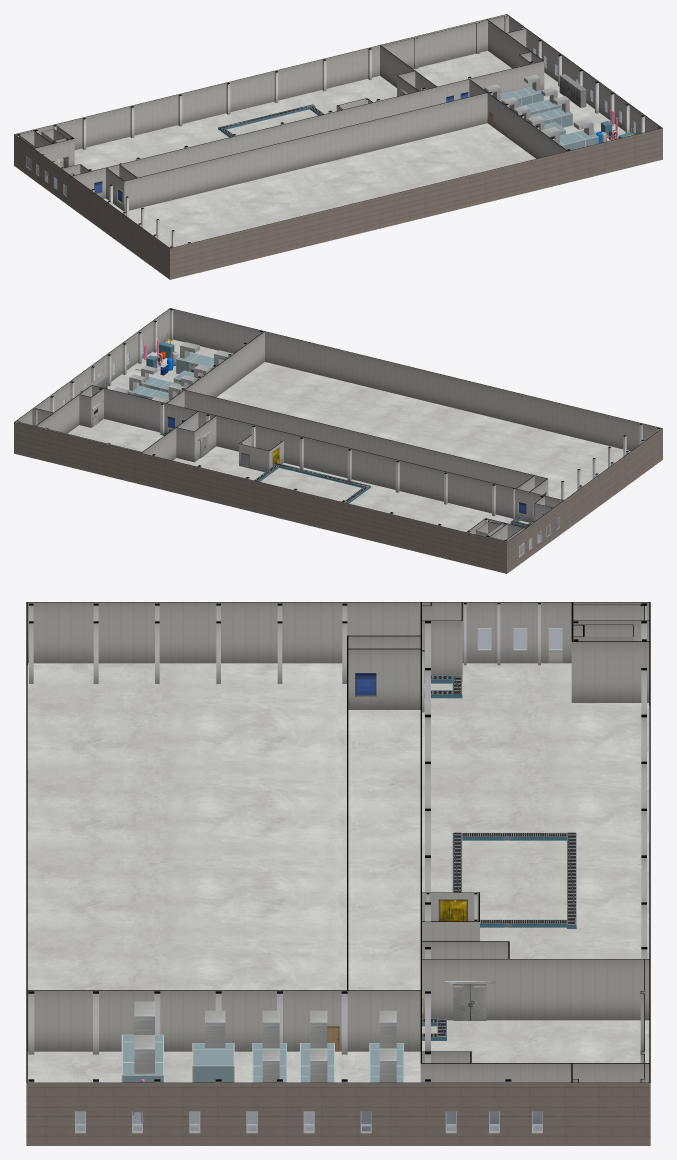
File: Logistics-3F.glb
The picture shows the model from 3 angles, top to bottom: view 1: azimuth 30°, elevation 25°; view 2: azimuth 150°, elevation 25°; view 3: azimuth 270°, elevation 25°; orthographic projection. The views are drawn at different scales.
Parts seen in each view (by area): view 1: Rectangle1056, Line2251, Logistics-3-10, Logistics-3-05, Logistics-3-07, Logistics-3-06, Logistics-3-13, Logistics-3-12, Rectangle1071; view 2: Rectangle1056, Line2251, Logistics-3-10, Logistics-3-12, Logistics-3-06, Logistics-3-07, Rectangle1071; view 3: Line2251, Rectangle1056, Logistics-3-12, Rectangle1071, Logistics-3-10, Logistics-3-08, Logistics-3-05, Logistics-3-06, Logistics-3-07, Line2269.
Boxes of the visible parts, <box> form: Rectangle1056: <box>14,14,662,279</box>; Line2251: <box>46,50,625,247</box>; Logistics-3-10: <box>540,119,598,150</box>; Logistics-3-05: <box>484,75,543,108</box>; Logistics-3-07: <box>513,96,572,127</box>; Logistics-3-06: <box>501,87,561,115</box>; Logistics-3-13: <box>559,74,586,107</box>; Logistics-3-12: <box>218,104,323,137</box>; Rectangle1071: <box>26,48,635,196</box>; Rectangle1056: <box>14,308,662,573</box>; Line2251: <box>68,339,630,548</box>; Logistics-3-10: <box>176,342,233,375</box>; Logistics-3-12: <box>162,429,534,527</box>; Logistics-3-06: <box>127,374,184,401</box>; Logistics-3-07: <box>138,365,196,394</box>; Rectangle1071: <box>54,331,559,557</box>; Line2251: <box>27,663,649,1132</box>; Rectangle1056: <box>26,602,650,1145</box>; Logistics-3-12: <box>422,675,576,1040</box>; Rectangle1071: <box>75,628,562,1133</box>; Logistics-3-10: <box>121,1001,163,1082</box>; Logistics-3-08: <box>192,1010,234,1082</box>; Logistics-3-05: <box>369,1010,403,1082</box>; Logistics-3-06: <box>300,1010,334,1082</box>; Logistics-3-07: <box>252,1010,286,1082</box>; Line2269: <box>453,984,486,1020</box>.
Size of the model in its own units: 82.1 by 5 by 45.
46 materials, 29 textured.
